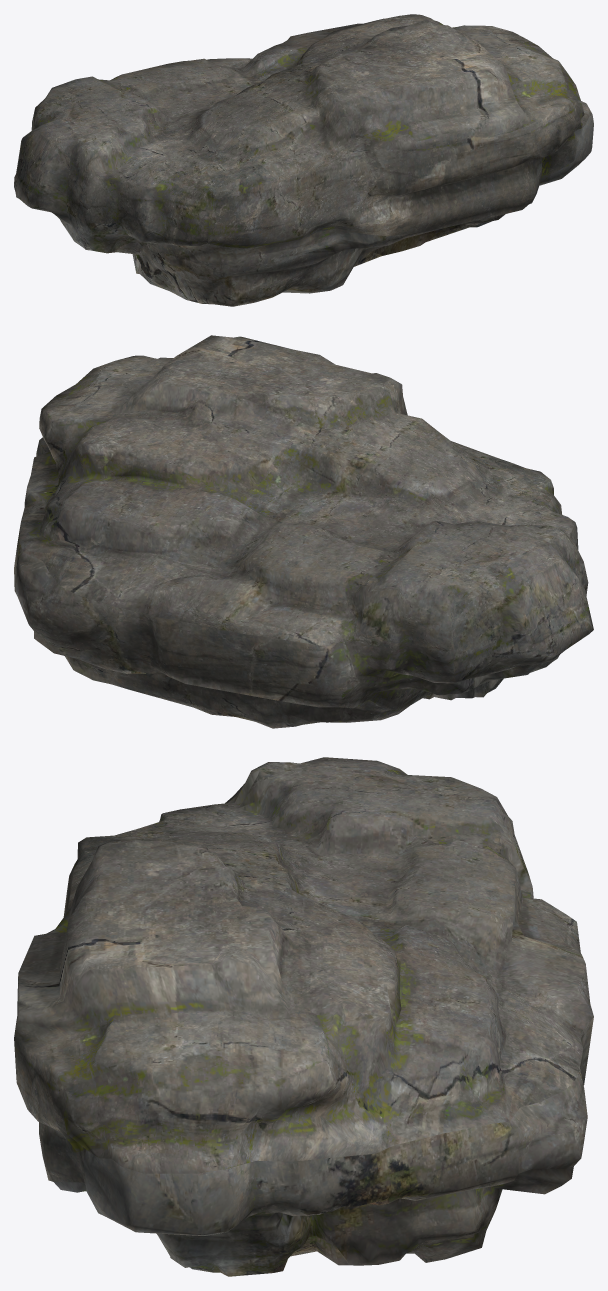
File: Rock.fbx
3 renders of one model, top to bottom at view 1: azimuth 30°, elevation 25°; view 2: azimuth 150°, elevation 25°; view 3: azimuth 270°, elevation 25°, orthographic. The views are drawn at different scales.
Parts seen in each view (by area): view 1: LV__Lobby_Rock_TurtleRock03_SM_EYE; view 2: LV__Lobby_Rock_TurtleRock03_SM_EYE; view 3: LV__Lobby_Rock_TurtleRock03_SM_EYE.
Part boxes in pixels (left/top/right/bottom): LV__Lobby_Rock_TurtleRock03_SM_EYE: left=14, top=14, right=593, bottom=306; LV__Lobby_Rock_TurtleRock03_SM_EYE: left=14, top=335, right=593, bottom=728; LV__Lobby_Rock_TurtleRock03_SM_EYE: left=14, top=757, right=593, bottom=1276.
Bounding box in the file's own units: 12.92 × 5.22 × 8.46.
Materials: 1 (1 with a texture image).
